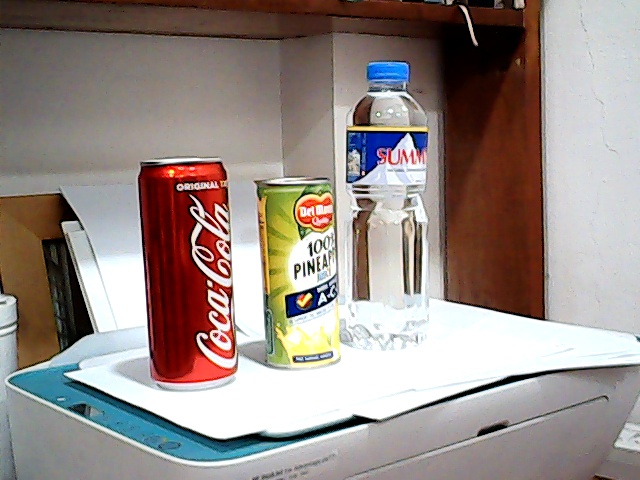Cola: (129, 154, 240, 385)
Pine Juice: (253, 177, 341, 364)
Summit Water: (341, 61, 431, 357)
